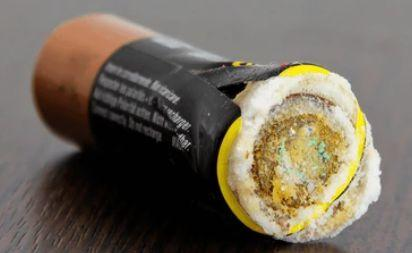battery: (32, 10, 373, 238)
